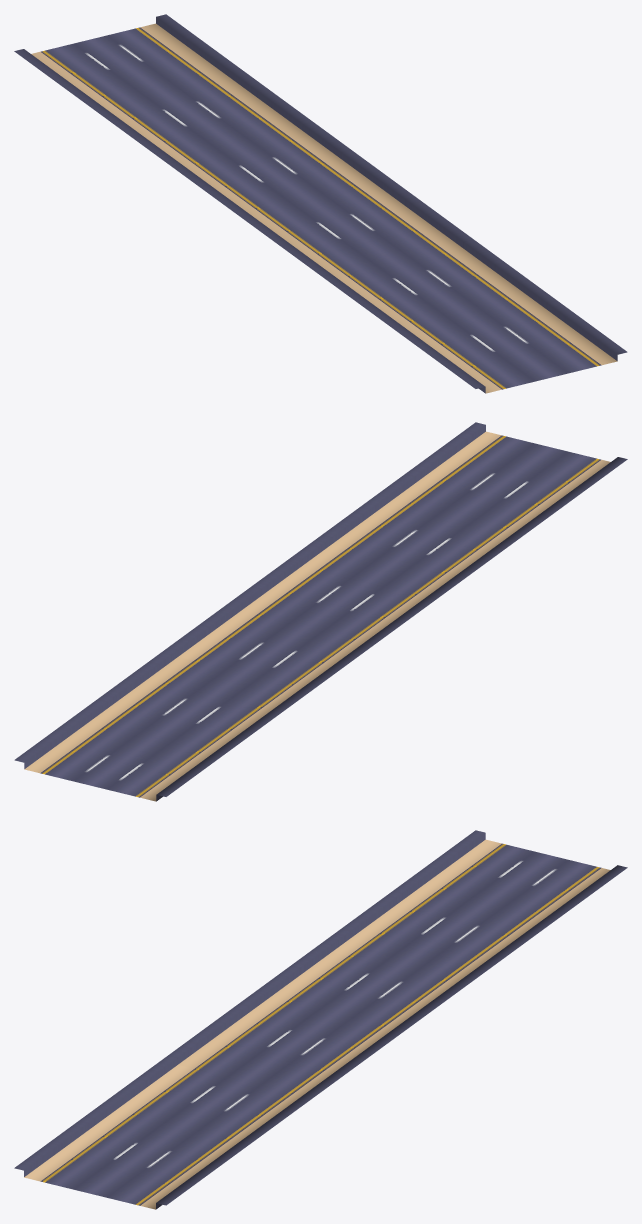
File: Road G.fbx
The picture shows the model from 3 angles, top to bottom: view 1: azimuth 30°, elevation 25°; view 2: azimuth 150°, elevation 25°; view 3: azimuth 330°, elevation 25°; orthographic projection.
Parts seen in each view (by area): view 1: road; view 2: road; view 3: road.
Boxes of the visible parts, <box> form: road: <box>14,14,627,393</box>; road: <box>14,422,627,801</box>; road: <box>14,830,627,1209</box>.
Size of the model in its own units: 458 by 19.79 by 2407.
